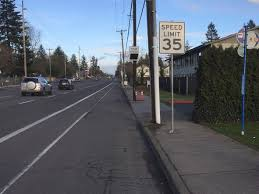speedLimit35: (158, 19, 187, 55)
